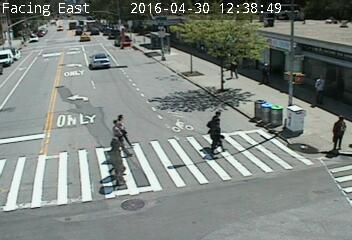neg: (281, 161, 300, 186), (157, 115, 174, 137), (277, 94, 293, 115), (91, 47, 106, 67), (141, 71, 156, 90), (191, 32, 205, 51), (39, 185, 51, 202), (115, 33, 127, 49), (182, 63, 194, 79), (253, 100, 264, 115), (184, 183, 194, 197), (6, 46, 16, 59), (64, 87, 73, 100), (151, 30, 160, 42), (29, 108, 37, 119), (292, 71, 299, 80), (52, 24, 58, 32)
pos: (94, 136, 134, 189), (193, 107, 230, 157), (322, 110, 351, 156), (101, 116, 128, 152), (107, 112, 133, 146), (306, 73, 331, 107), (257, 62, 274, 85), (224, 56, 241, 78)
